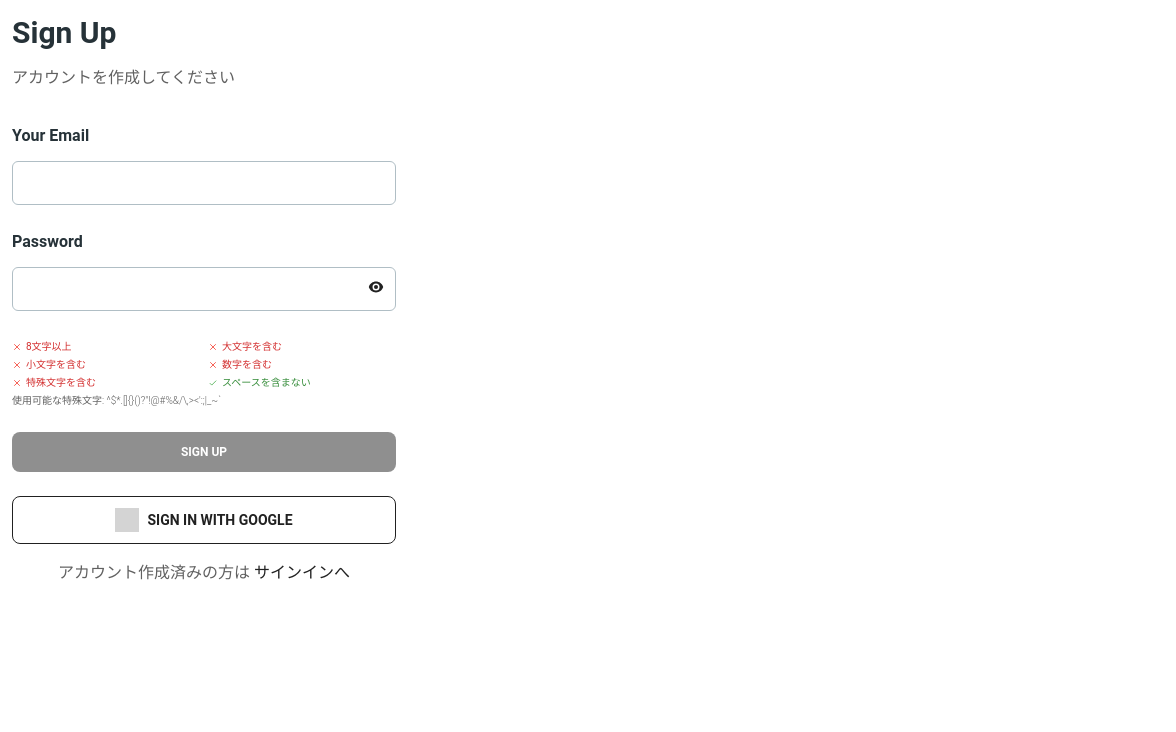
Test: SignUpForm › メールサインアップが成功した場合、確認メール送信画面が表示される
Type "test@example.com" into the field with placeholder "name@mail.com" at (204, 183), box [12,161,396,205]
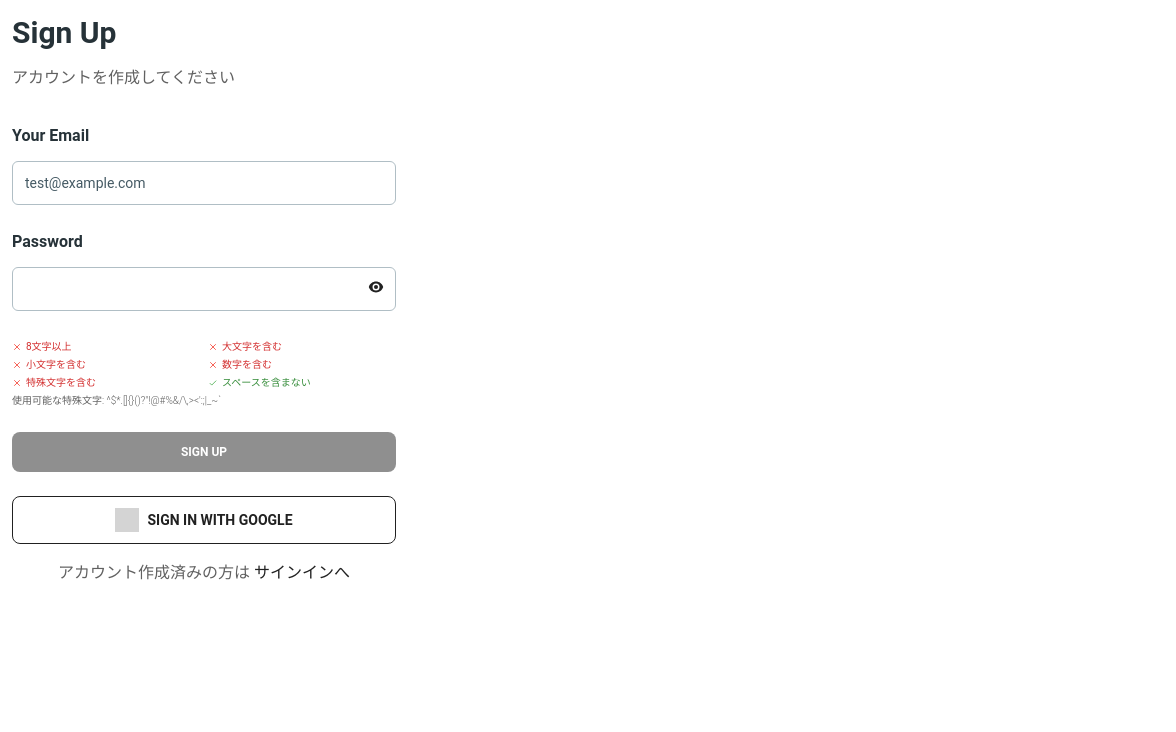
Type "StrongP@ssw0rd" into the password field with placeholder "********" at (204, 289), box [12,267,396,311]
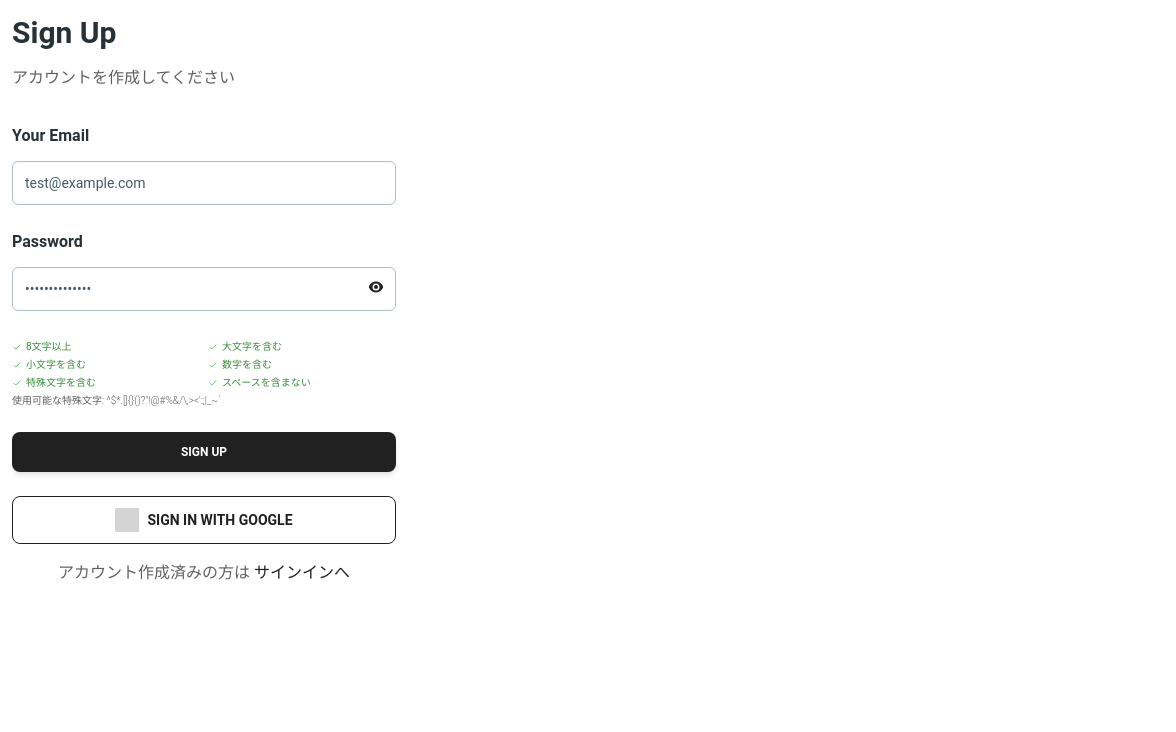
Click the button "Sign Up" at (204, 452), box [12,432,396,472]
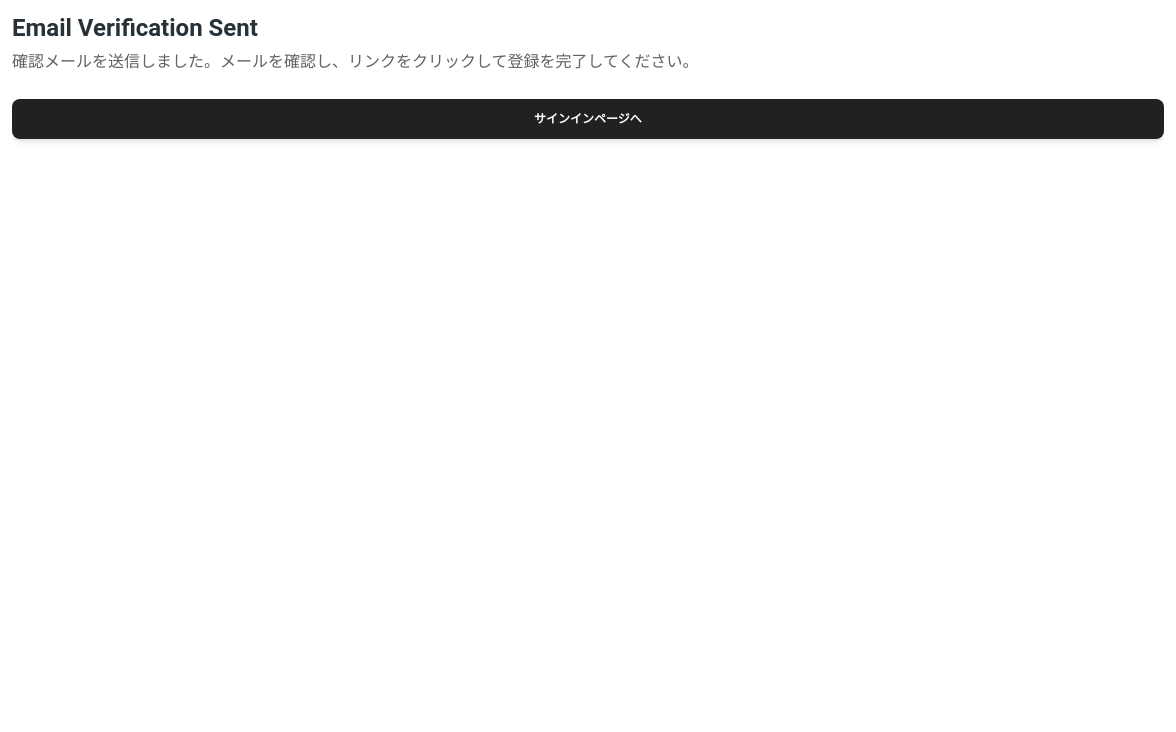
Now the heading "Email Verification Sent" is shown, box [12,14,258,42]
